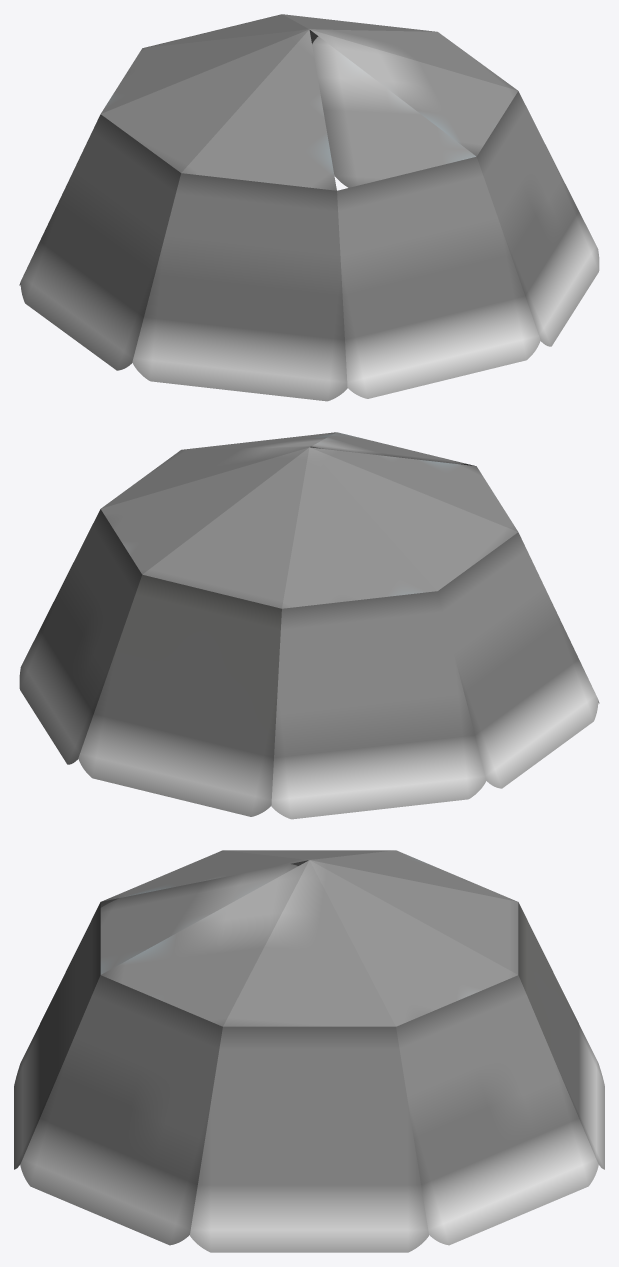
File: brake_dome.obj
The picture shows the model from 3 angles, top to bottom: view 1: azimuth 30°, elevation 25°; view 2: azimuth 150°, elevation 25°; view 3: azimuth 270°, elevation 25°; orthographic projection. The views are drawn at different scales.
Bounding box in the file's own units: 0.1875 × 0.0938 × 0.1875.
